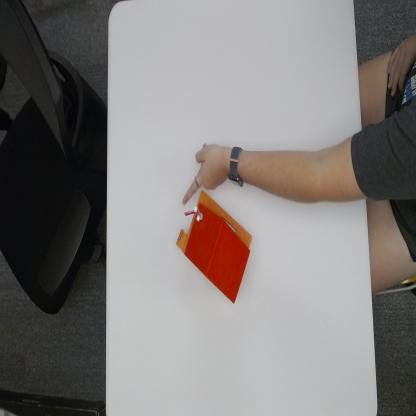Arm: (244, 144, 366, 204)
Hand: (180, 141, 228, 202)
House: (176, 188, 250, 303)
